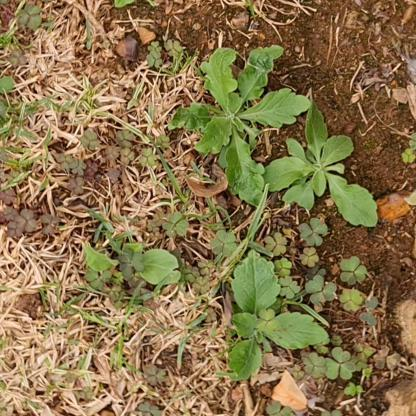Weeds: (173, 43, 311, 208), (256, 98, 378, 231), (223, 247, 328, 380), (82, 236, 182, 297)
